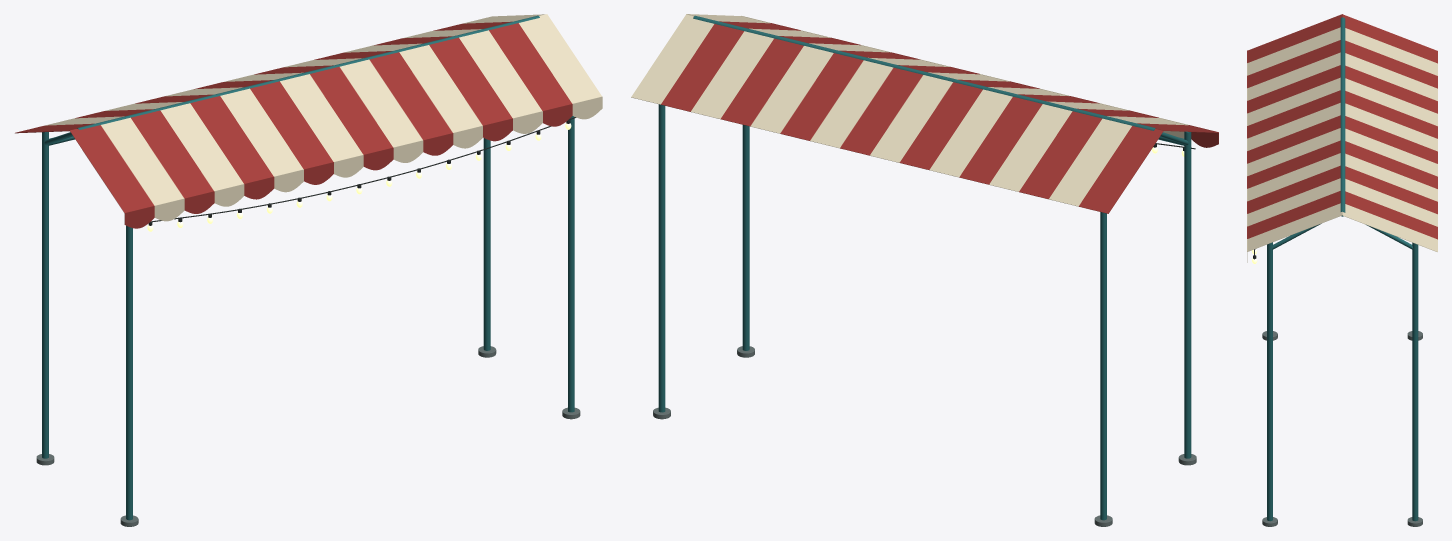
The model's file is Canopy.fbx.
3 views of the same model, side by side, from view 1: azimuth 30°, elevation 25°; view 2: azimuth 150°, elevation 25°; view 3: azimuth 270°, elevation 25° (orthographic). The views are drawn at different scales.
Parts seen in each view (by area): view 1: Canopy_Body; view 2: Canopy_Body; view 3: Canopy_Body.
Part boxes in pixels (<box>): Canopy_Body: <box>15,14,602,526</box>; Canopy_Body: <box>631,14,1218,526</box>; Canopy_Body: <box>1247,14,1437,526</box>.
Bounding box in the file's own units: 4 × 2.93 × 1.6.
